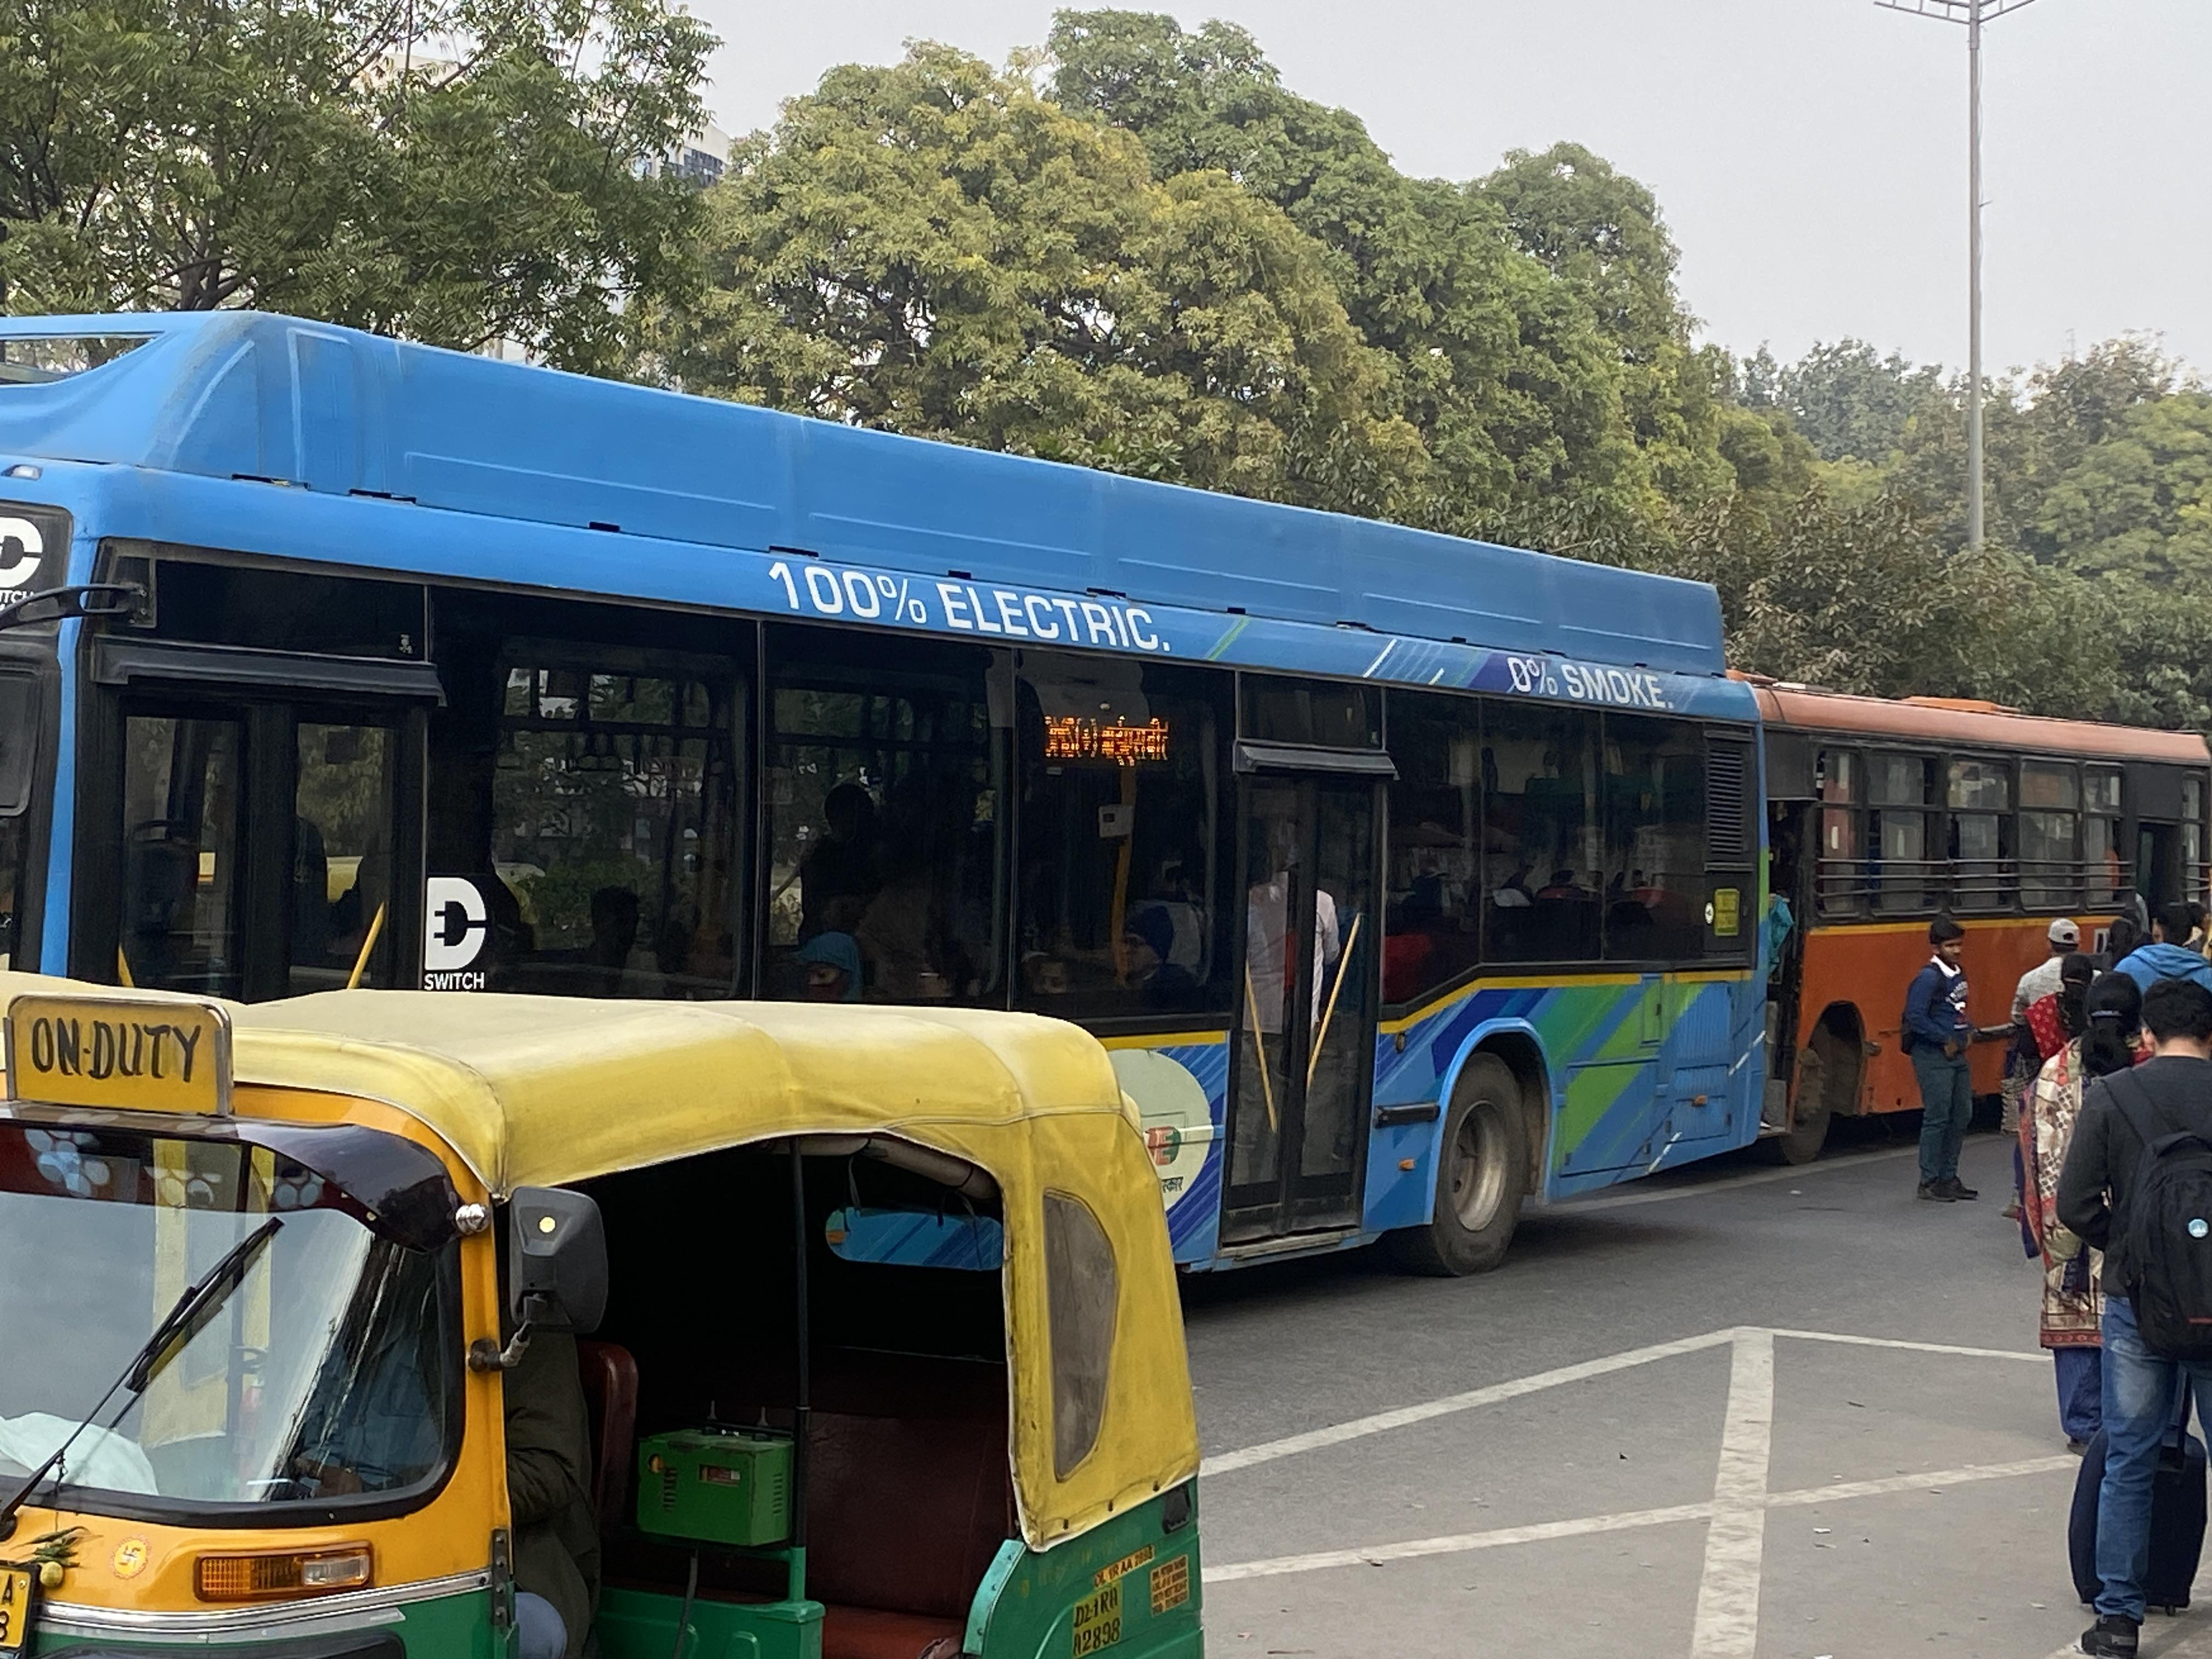Bus: (0, 268, 1865, 1279), (1756, 687, 2212, 1169)
Display Board: (998, 636, 1202, 795)
